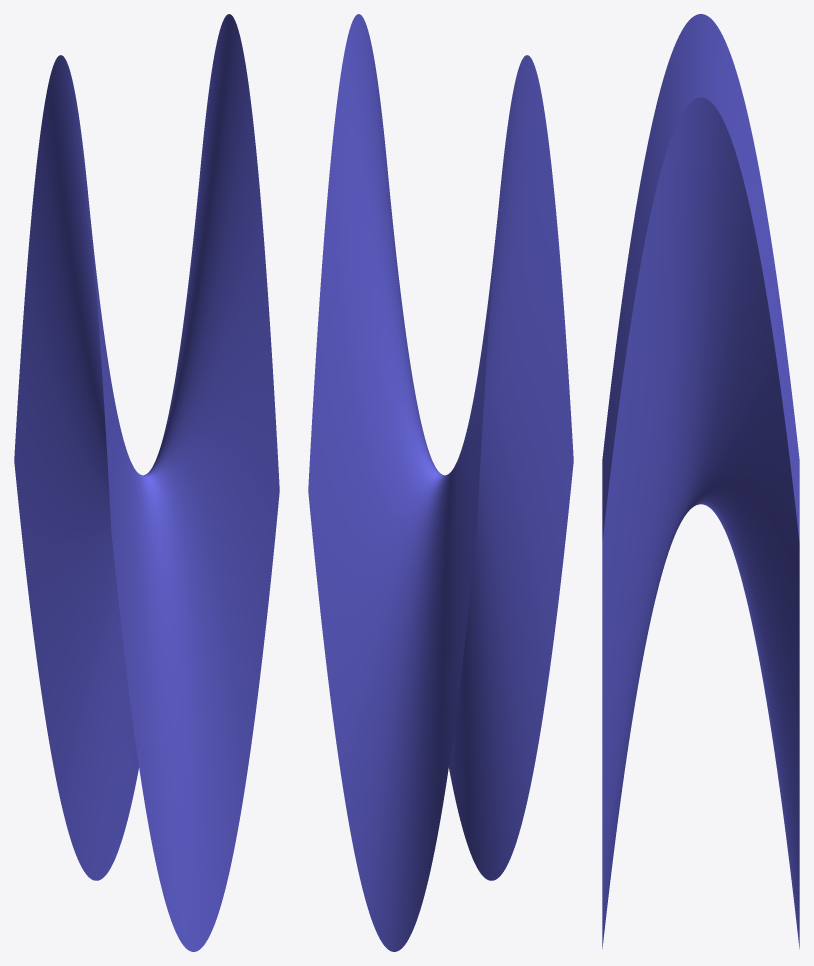
Rendered from superficie.fbx.
3 views of the same model, side by side, from view 1: azimuth 30°, elevation 25°; view 2: azimuth 150°, elevation 25°; view 3: azimuth 270°, elevation 25° (orthographic).
Parts seen in each view (by area): view 1: polySurface88; view 2: polySurface88; view 3: polySurface88.
Boxes of the visible parts, x1,y1,x2,y2 form: polySurface88: [14, 14, 279, 951]; polySurface88: [308, 14, 573, 951]; polySurface88: [602, 14, 799, 948].
Bounding box in the file's own units: 10 × 49.99 × 10.
